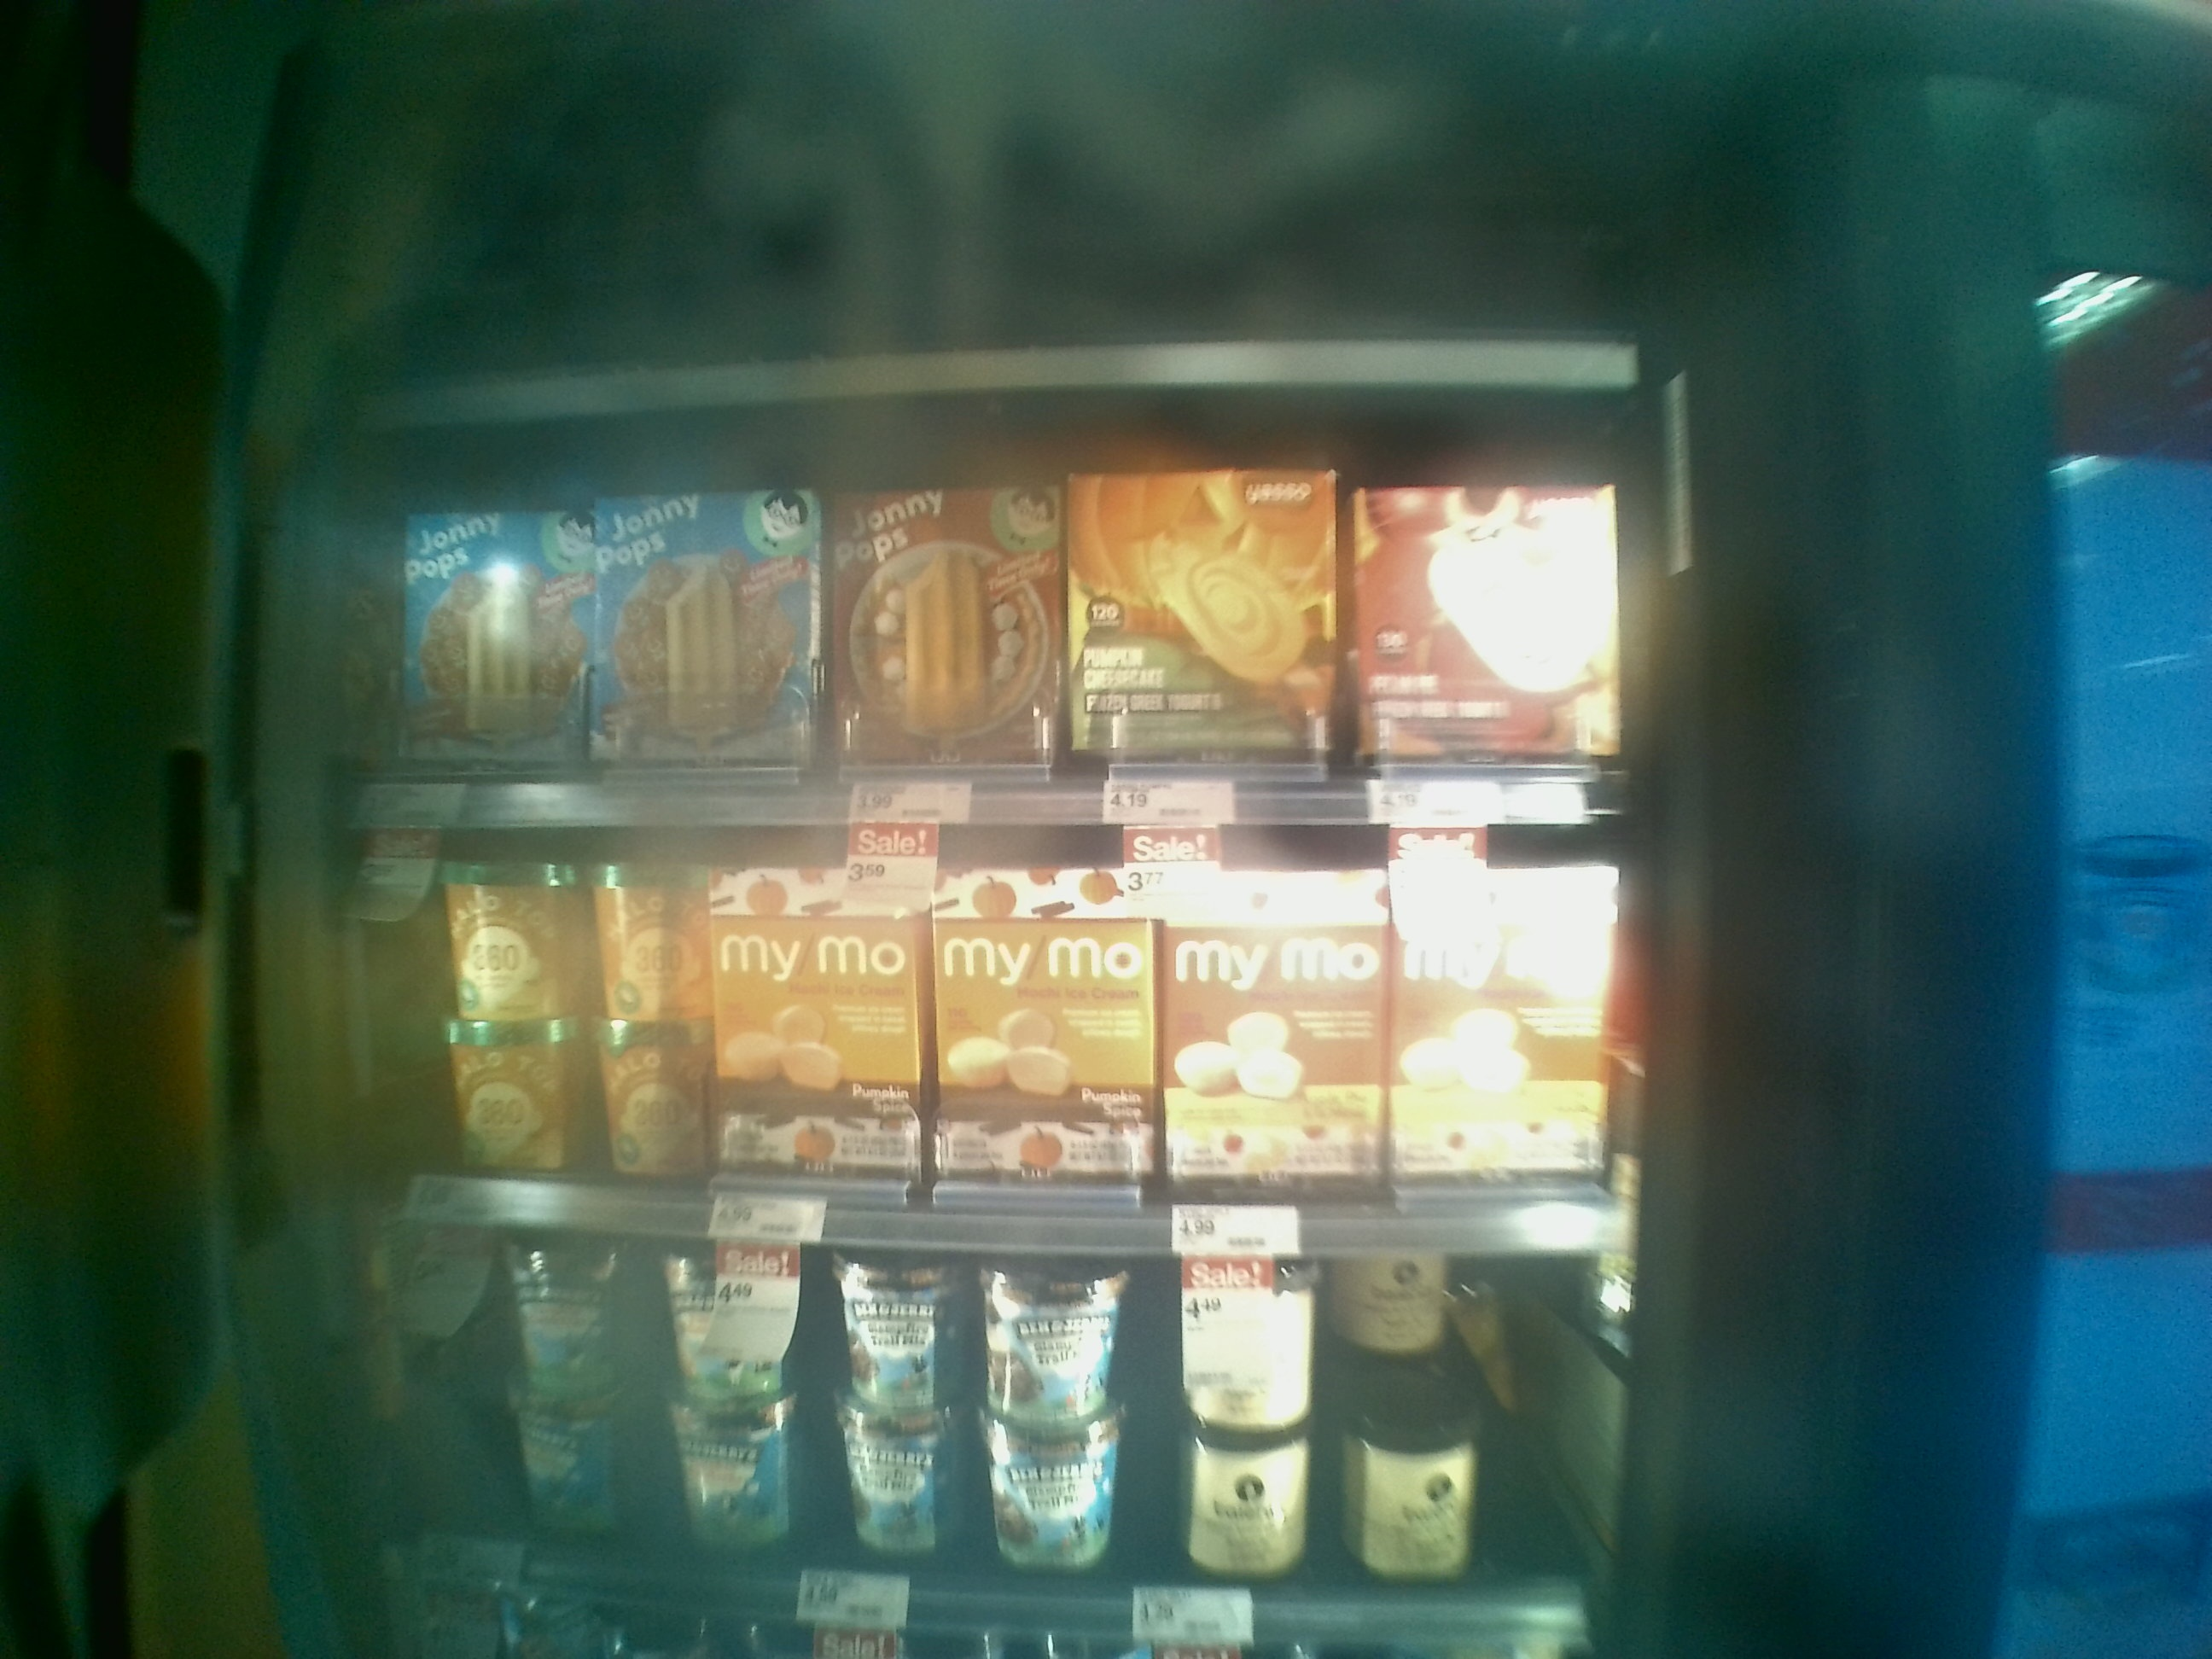shelf: (307, 779, 1641, 1255), (308, 385, 1634, 812)
